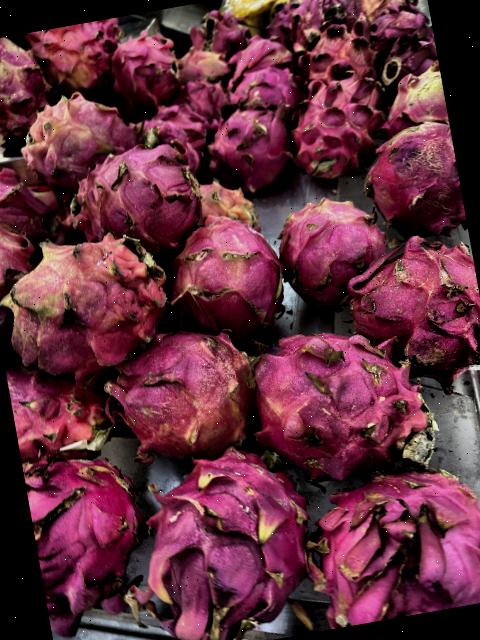buah-naga-belum-matang: (0, 229, 178, 386), (105, 324, 261, 462), (7, 84, 144, 178), (376, 64, 450, 142), (192, 174, 266, 238), (0, 32, 45, 130)
buah-naga-matang: (124, 430, 326, 640), (249, 316, 452, 496), (294, 451, 480, 630), (22, 449, 164, 636), (339, 232, 480, 394), (57, 127, 209, 256), (162, 212, 288, 344), (267, 180, 394, 310), (5, 352, 120, 472), (359, 123, 467, 243), (284, 77, 379, 182), (201, 97, 292, 189), (32, 18, 125, 106), (0, 159, 72, 252), (290, 15, 379, 86), (106, 32, 182, 104), (136, 102, 203, 174), (370, 29, 440, 88), (0, 206, 37, 317), (226, 60, 300, 108), (186, 5, 248, 58), (280, 0, 361, 40), (363, 0, 424, 48), (226, 36, 292, 76)
